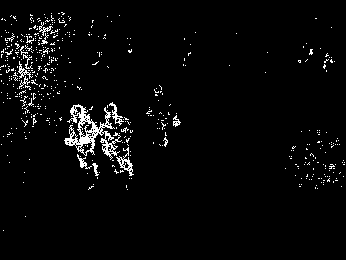person: (97, 102, 135, 190), (61, 104, 100, 189)
